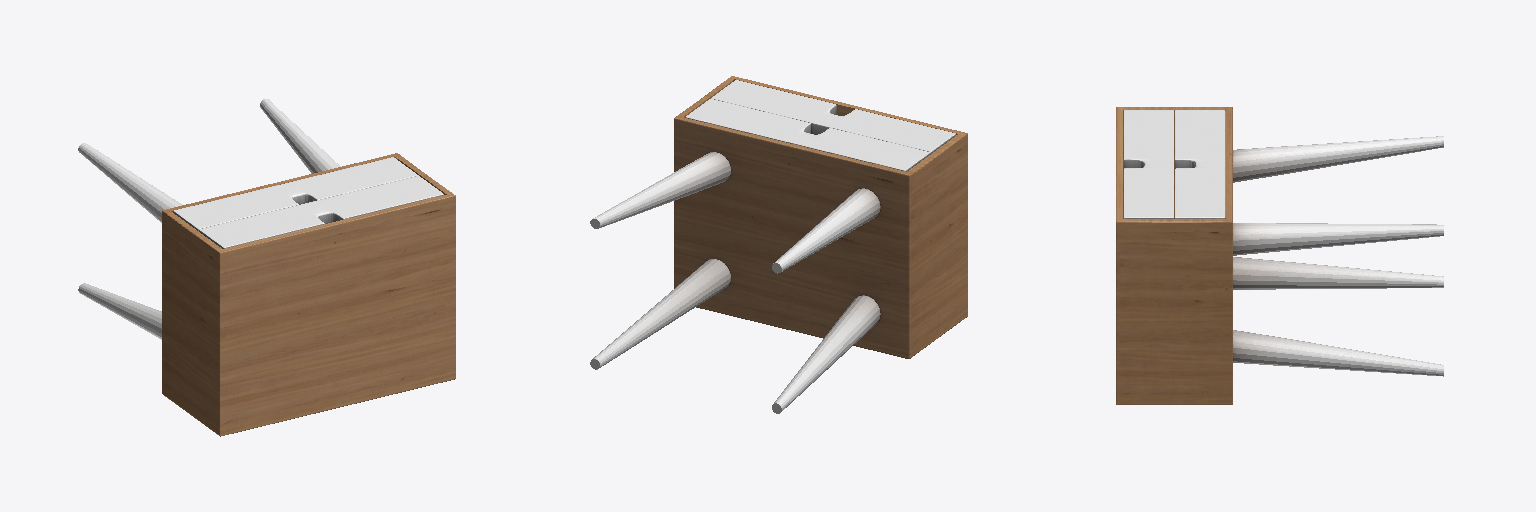
The picture shows the model from 3 angles: view 1: azimuth 30°, elevation 25°; view 2: azimuth 150°, elevation 25°; view 3: azimuth 270°, elevation 25°; orthographic projection.
Size of the model in its own units: 0.47 by 0.351 by 0.5648.
1 materials, 1 textured.